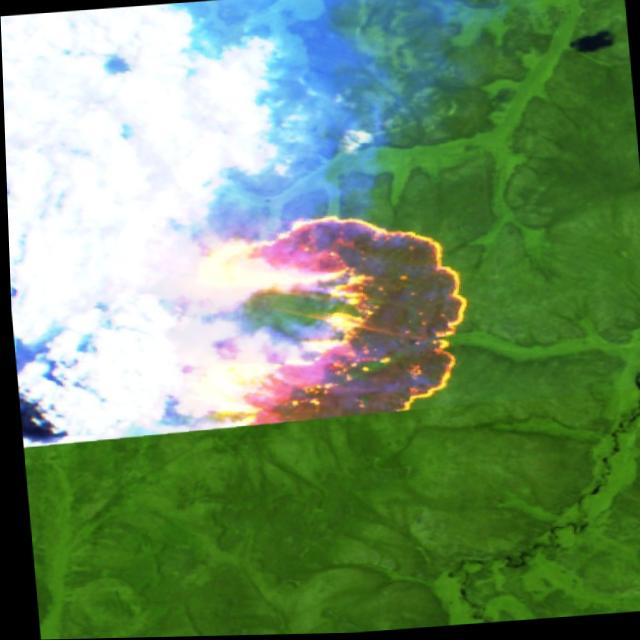fire: (136, 199, 481, 440)
